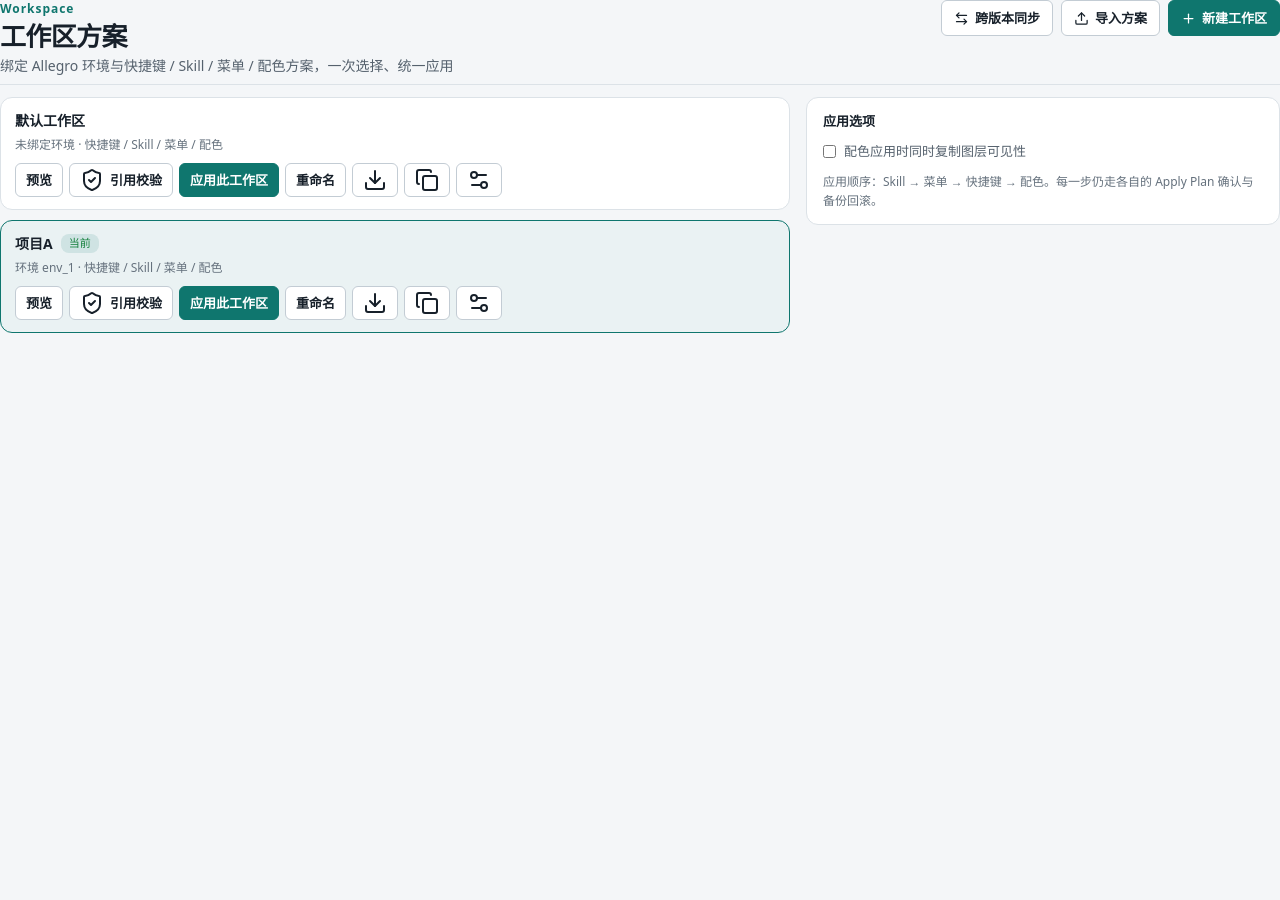
Scenario: UnifiedWorkspacePage › 提供工作区绑定配置入口
Click the button named "配置 项目A" at (479,303), box [456,286,502,320]
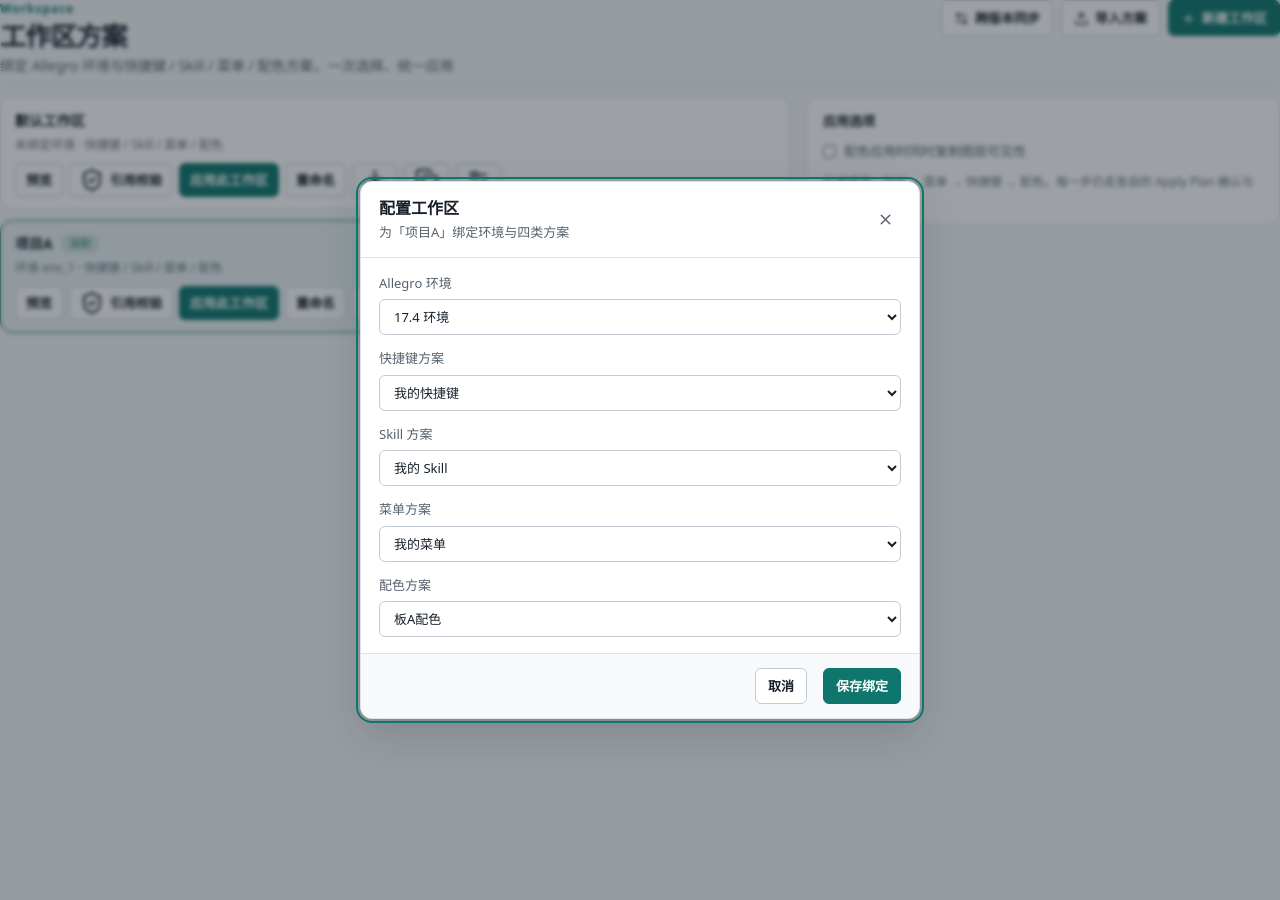
Now the dialog "配置工作区" is shown, box [360,181,920,719]
Now the dropdown labelled "Allegro 环境" is shown, box [379,299,901,335]
Now the dropdown labelled "快捷键方案" is shown, box [379,374,901,410]
